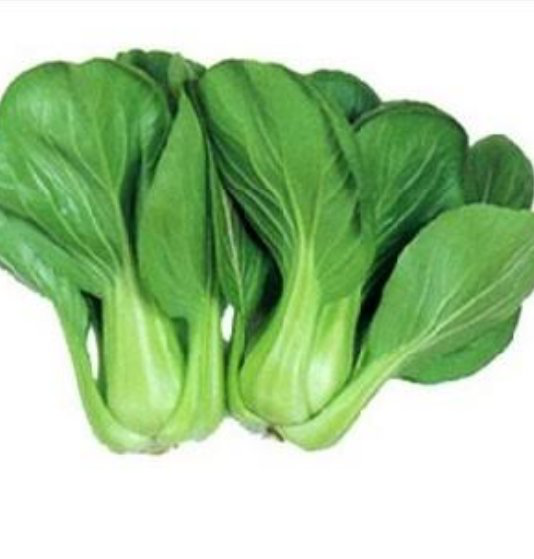Sawi: (18, 57, 505, 464)
